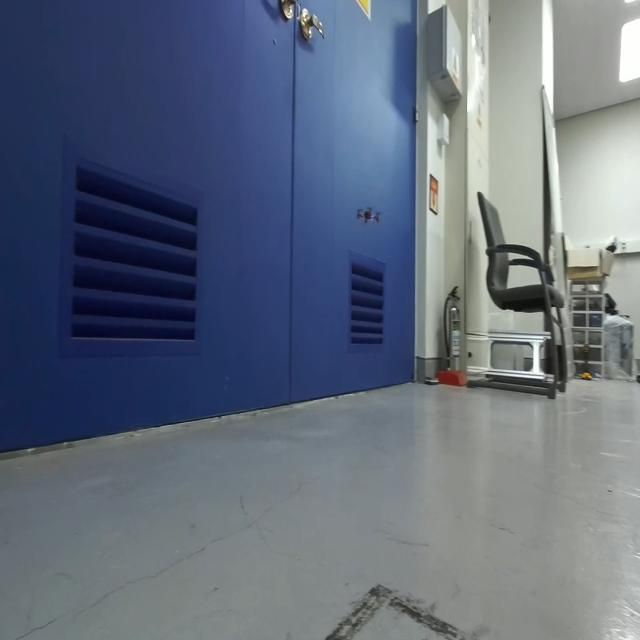crazyflie: (354, 196, 385, 233)
